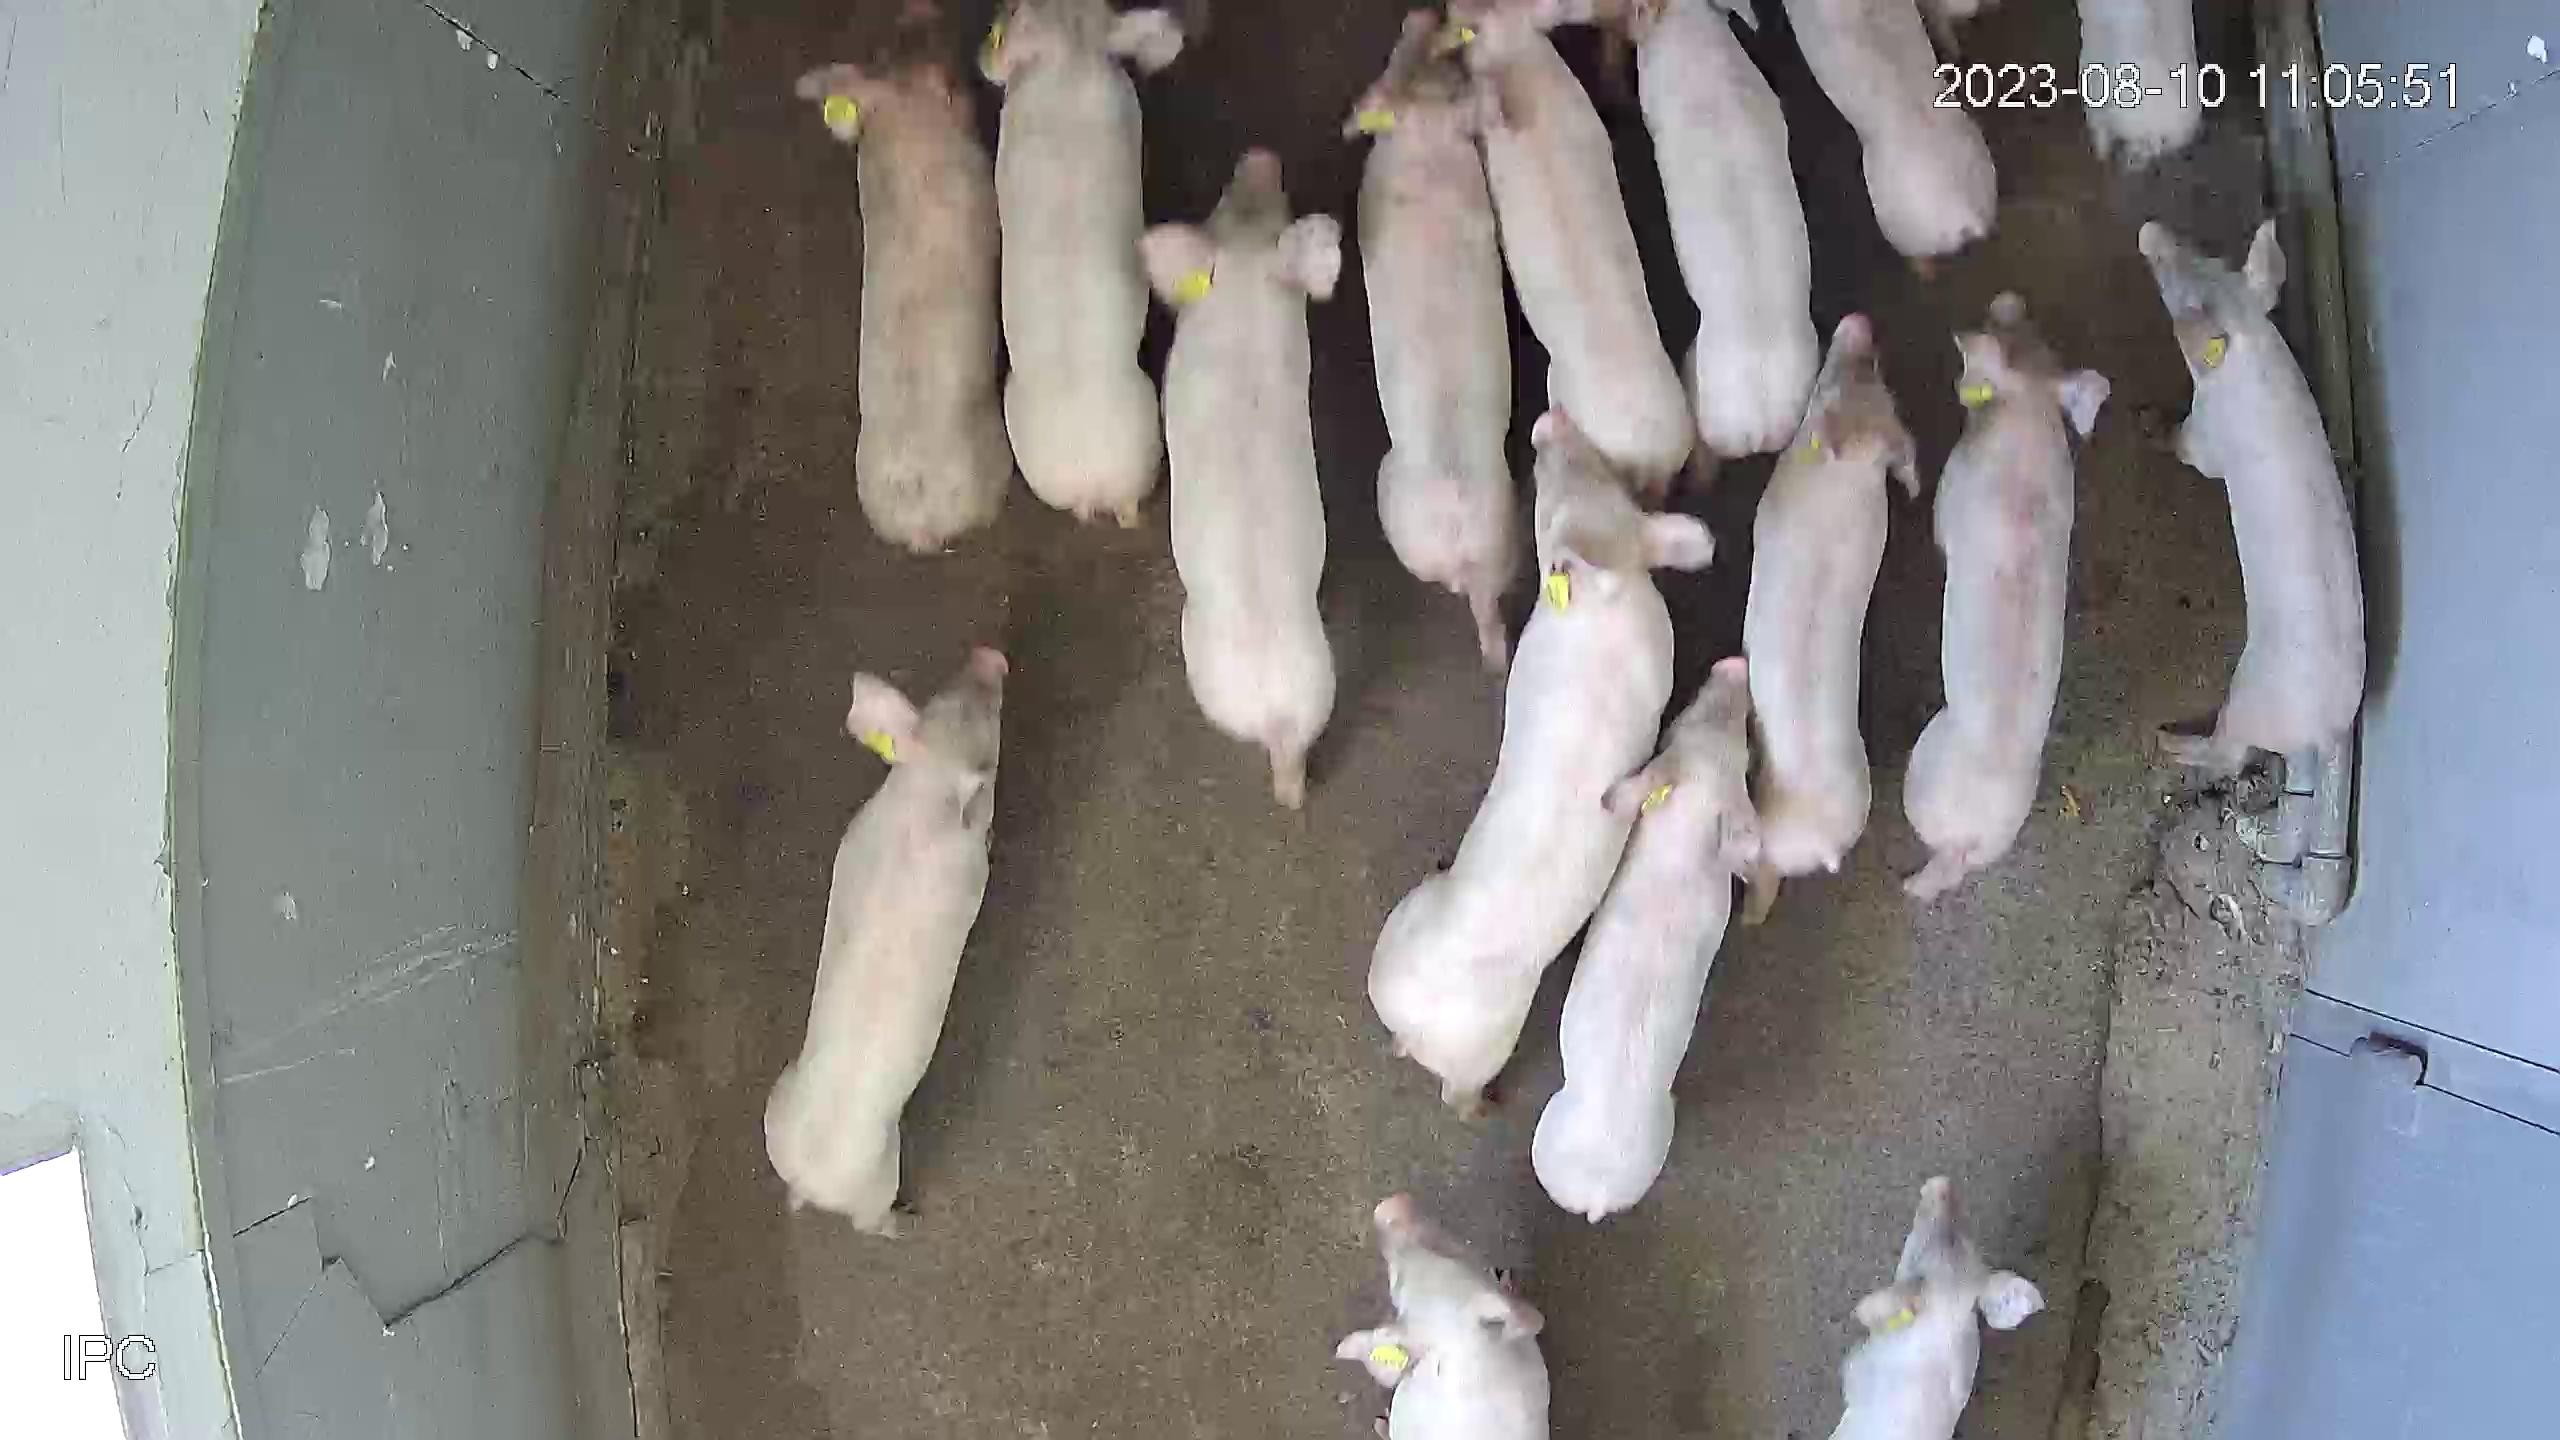Pig: (1370, 404, 1714, 1115), (763, 645, 1007, 1234), (1139, 144, 1342, 807), (1533, 656, 1762, 1222), (1908, 288, 2113, 900), (2145, 220, 2370, 765), (1452, 0, 1697, 489), (1347, 5, 1519, 670), (1746, 309, 1922, 923), (979, 0, 1183, 524), (796, 60, 1011, 550), (1640, 0, 1822, 454), (1834, 1176, 2048, 1440), (1786, 0, 2001, 255), (1336, 1194, 1551, 1440), (2082, 0, 2207, 167)
